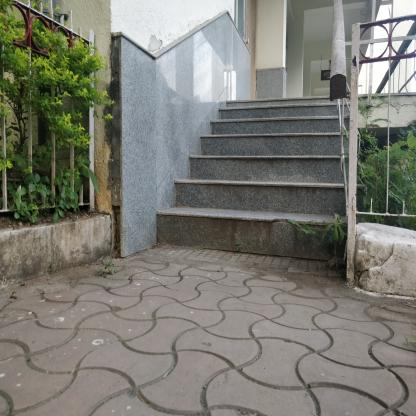stairs: (210, 119, 334, 265)
